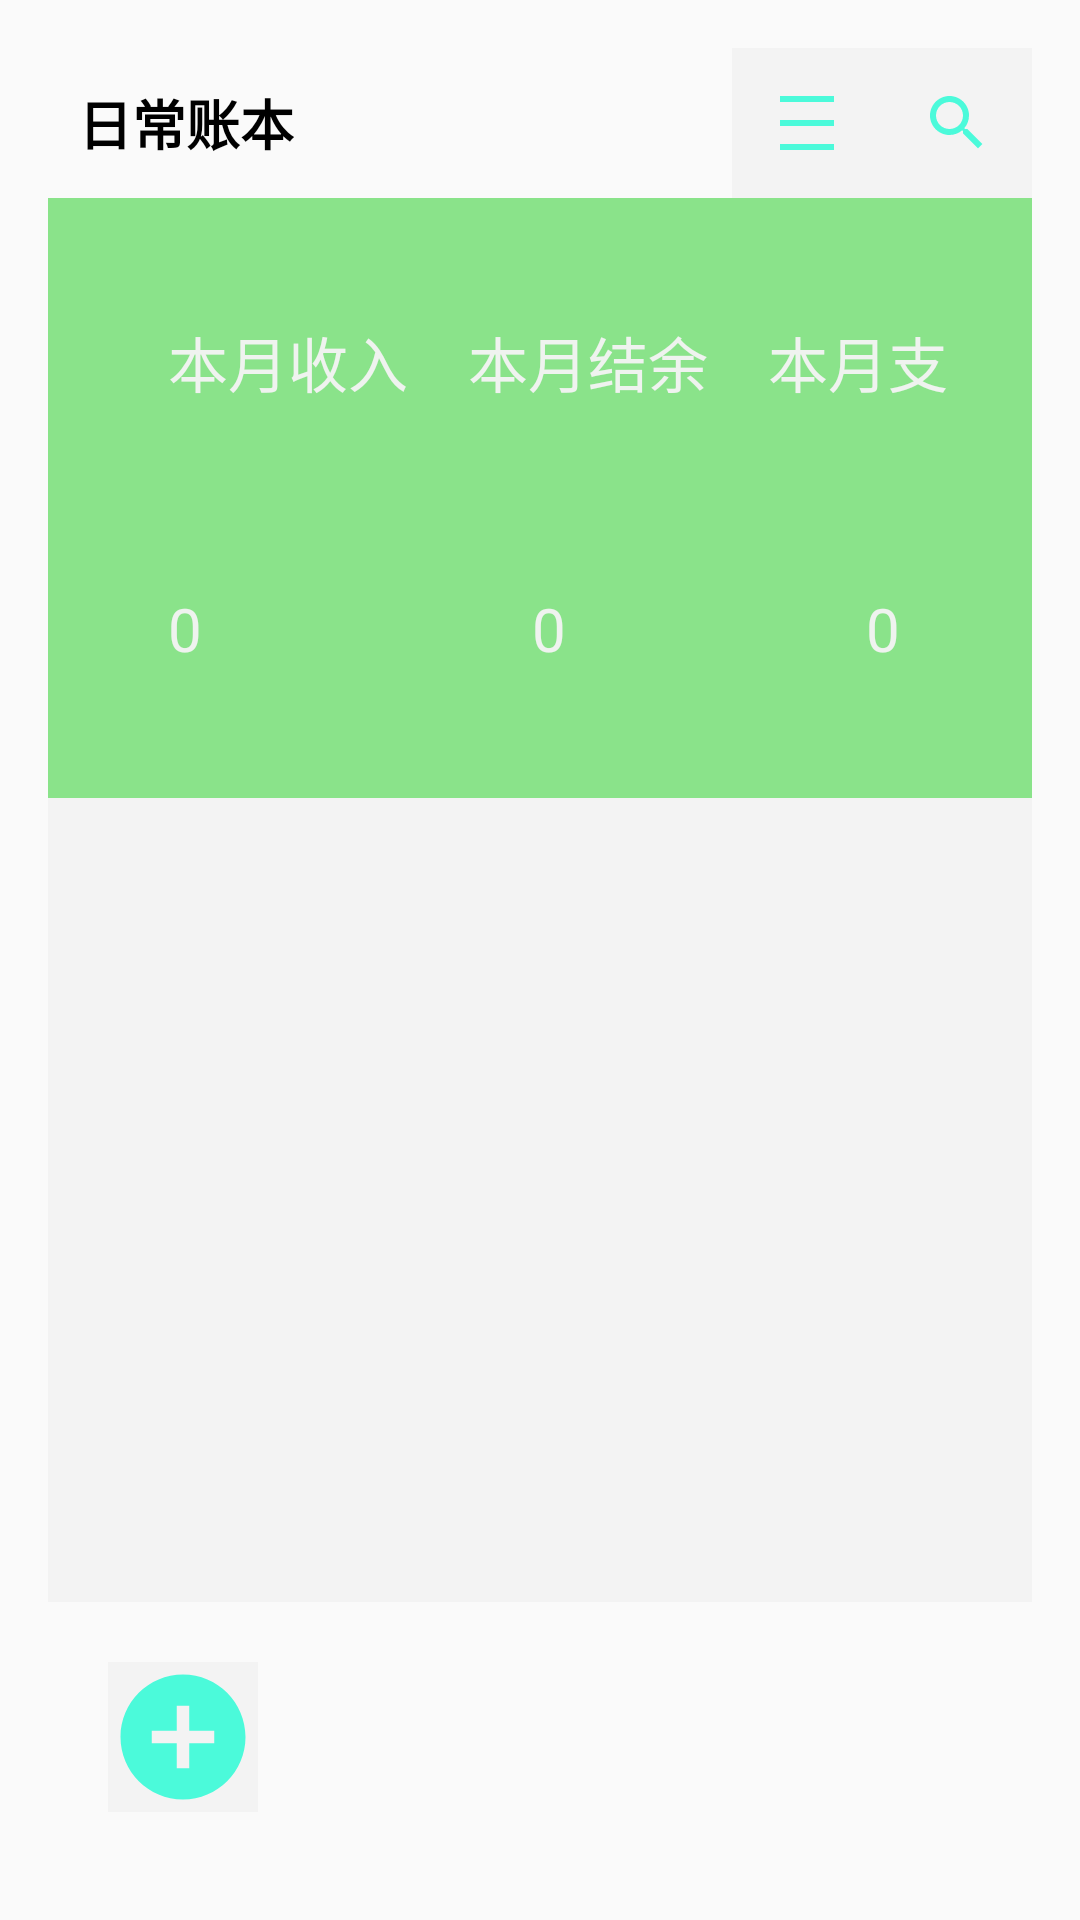

Named icons in this screenshot (1080*1920) and their bounding boxes, (x1,y1,x2,y2):
add tally: (120,1674,246,1800)
search: (930,96,982,148)
